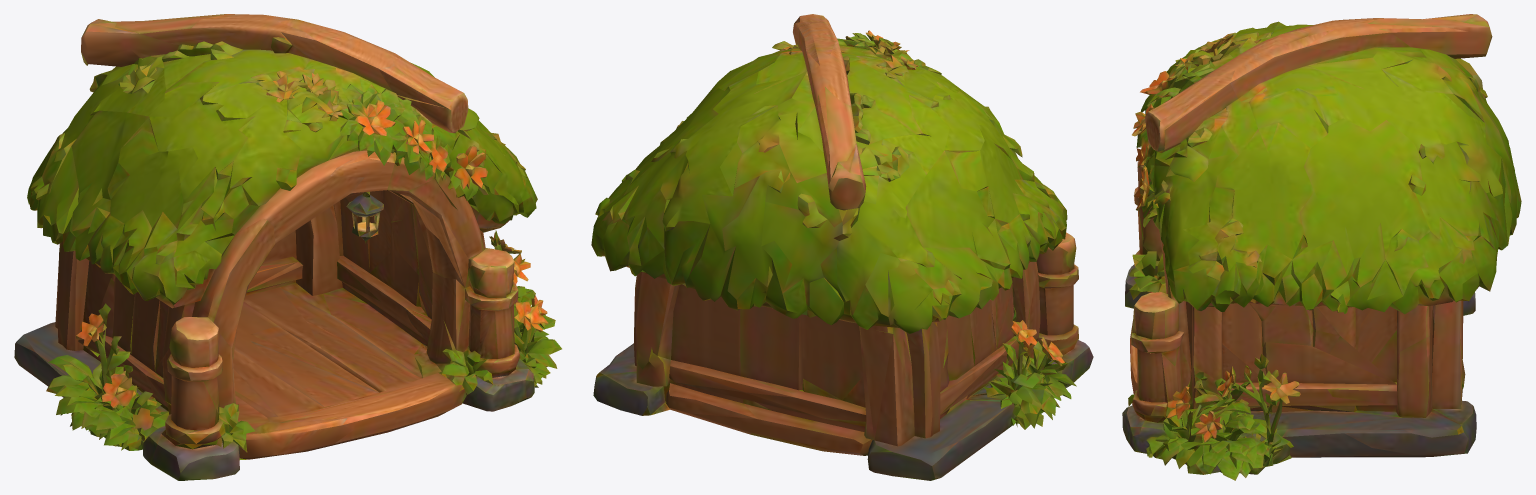
File: mossflower-hollow-gpu.glb
3 views of the same model, side by side, from view 1: azimuth 30°, elevation 25°; view 2: azimuth 150°, elevation 25°; view 3: azimuth 270°, elevation 25° (orthographic). The views are drawn at different scales.
Parts seen in each view (by area): view 1: output_unwrapped; view 2: output_unwrapped; view 3: output_unwrapped.
Boxes of the visible parts, x1,y1,x2,y2 form: output_unwrapped: (14, 14, 561, 480); output_unwrapped: (591, 14, 1093, 480); output_unwrapped: (1122, 14, 1521, 480).
Bounding box in the file's own units: 1.9 × 1.37 × 1.44.
Materials: 1 (1 with a texture image).
